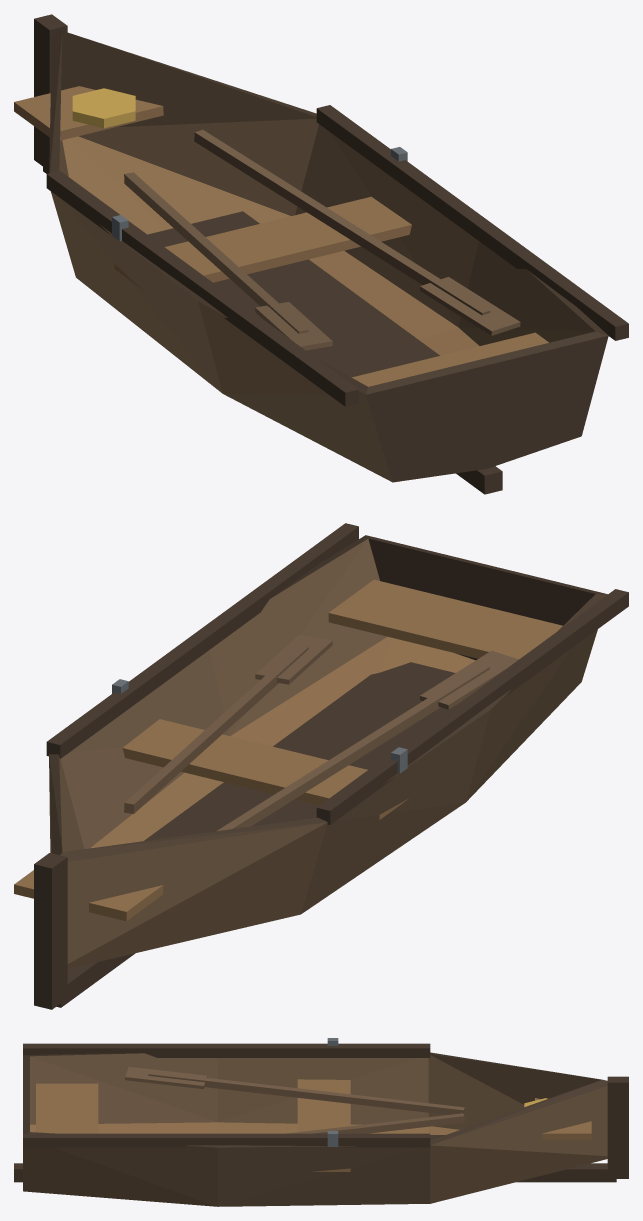
Rendered from rowboat.glb.
3 views of the same model, one above another, from view 1: azimuth 30°, elevation 25°; view 2: azimuth 150°, elevation 25°; view 3: azimuth 270°, elevation 25° (orthographic). The views are drawn at different scales.
Parts seen in each view (by area): view 1: rowboat; view 2: rowboat; view 3: rowboat.
Boxes of the visible parts, x1,y1,x2,y2 form: rowboat: [14, 14, 628, 494]; rowboat: [14, 523, 628, 1009]; rowboat: [14, 1038, 628, 1206].
Size of what is drawn, in the model's own units: 1.3 by 0.62 by 3.47.
Materials: 2 (2 with a texture image).
